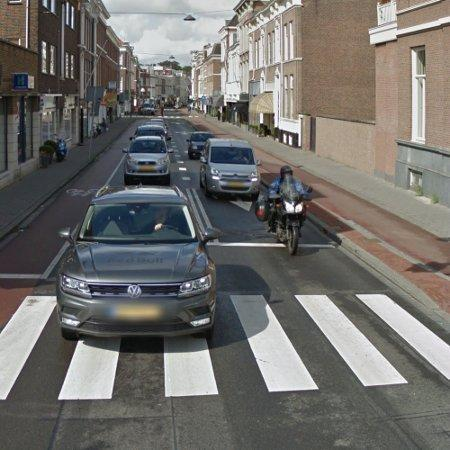crosswalks: (0, 294, 450, 401)
